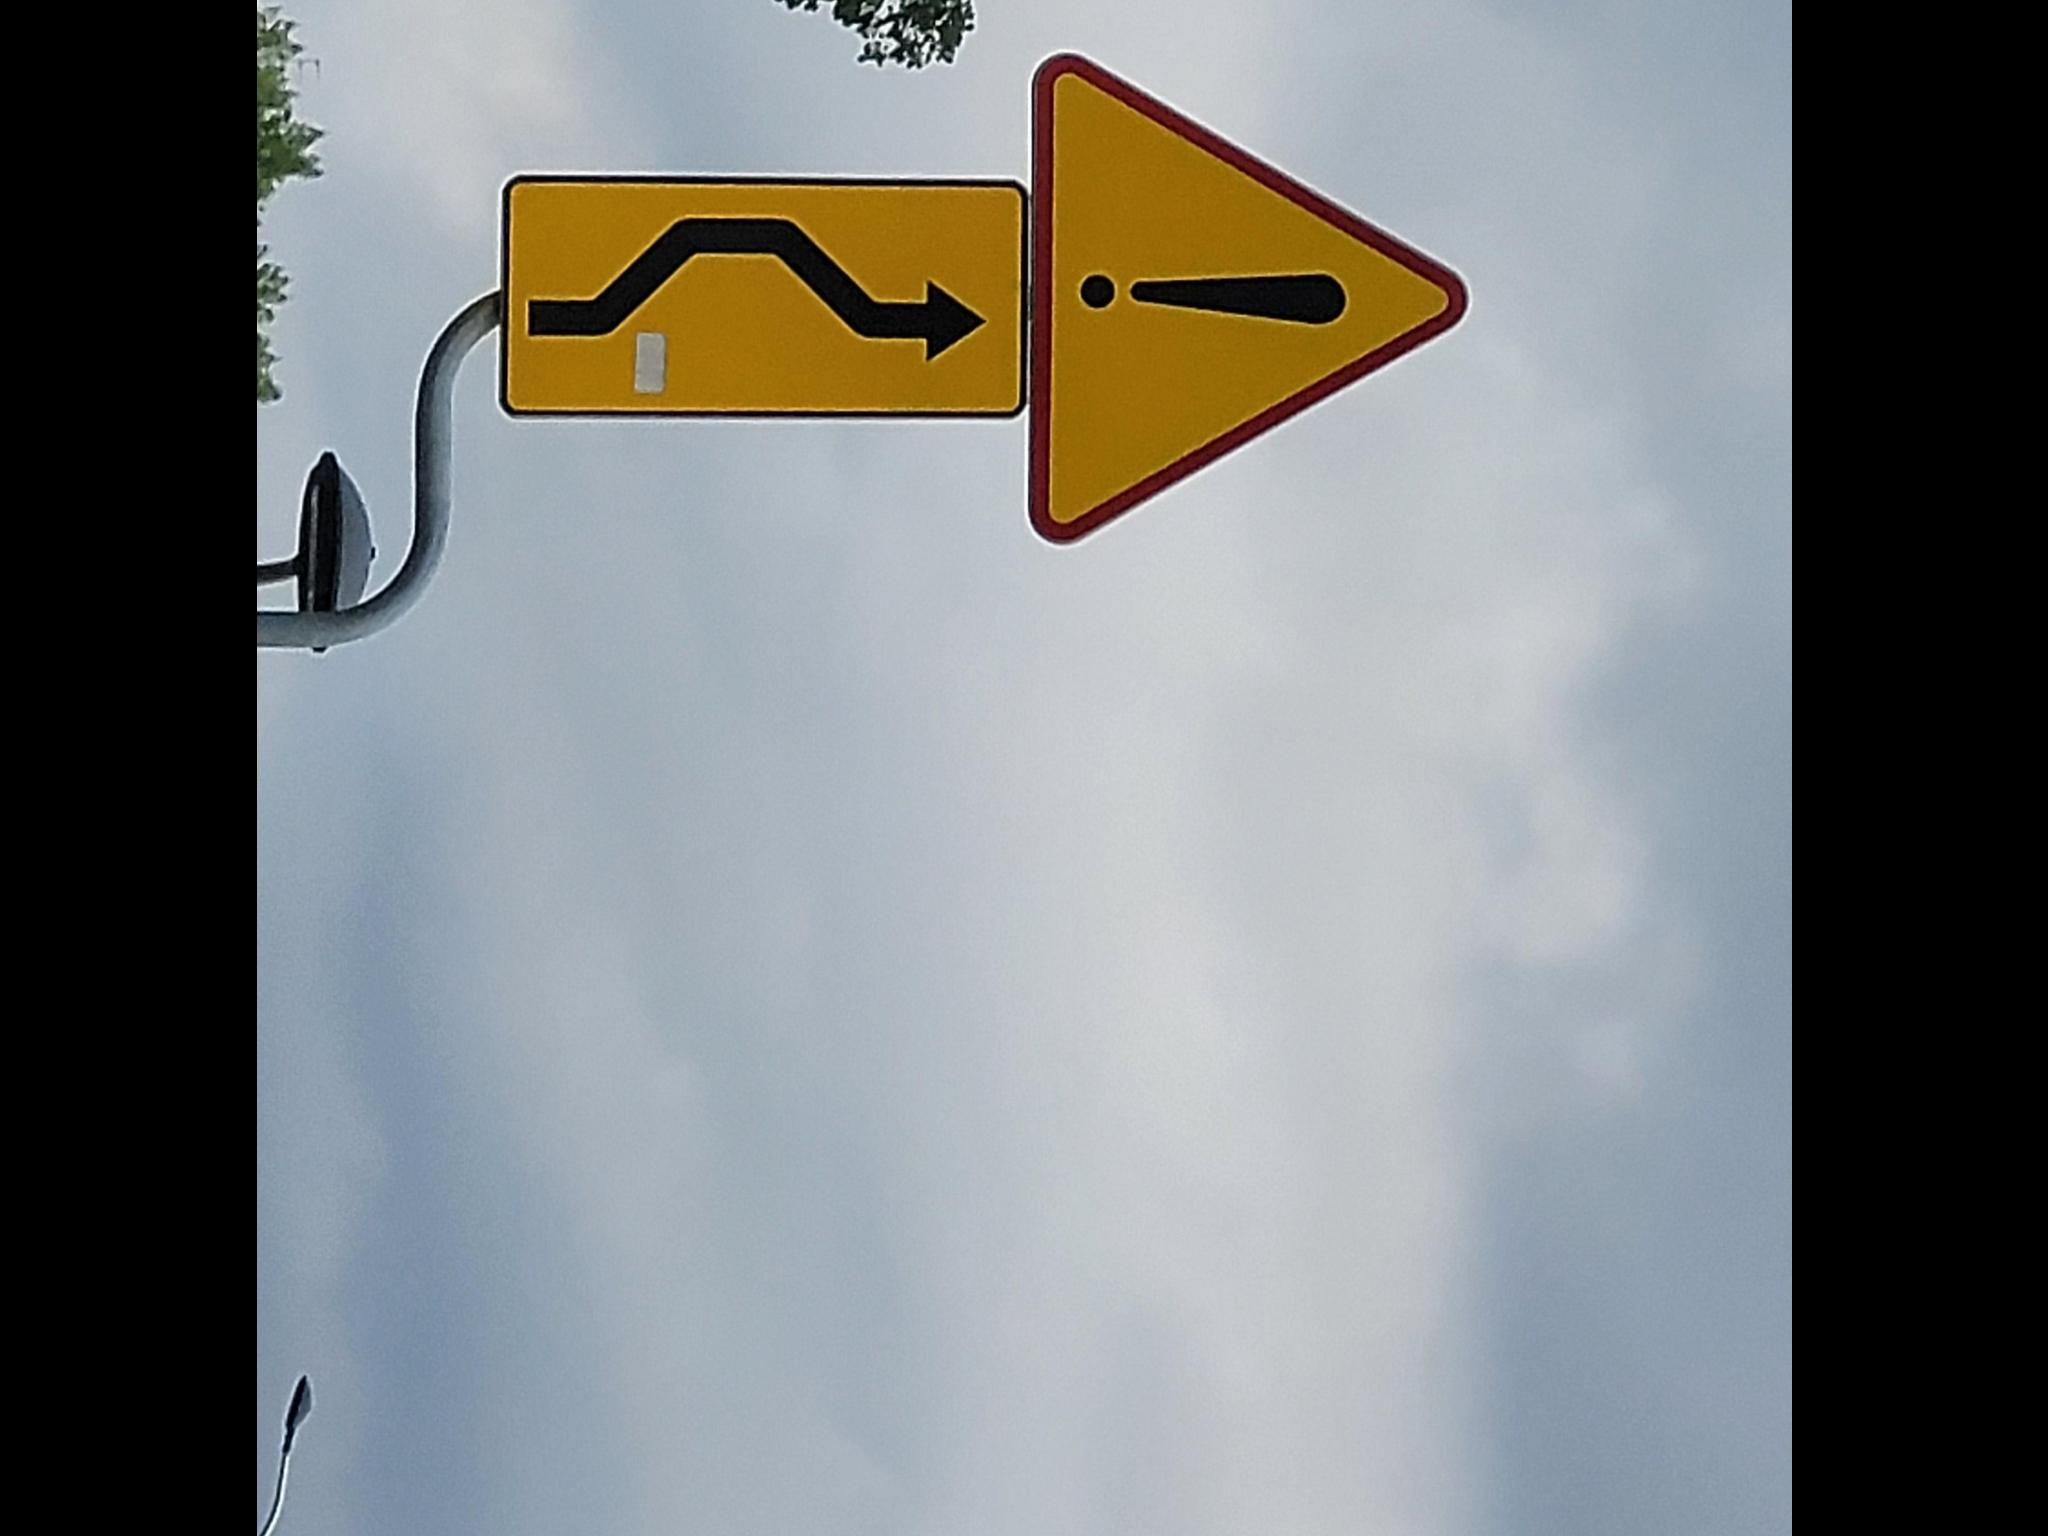other: (505, 177, 1022, 413)
warning: (1026, 50, 1471, 550)
